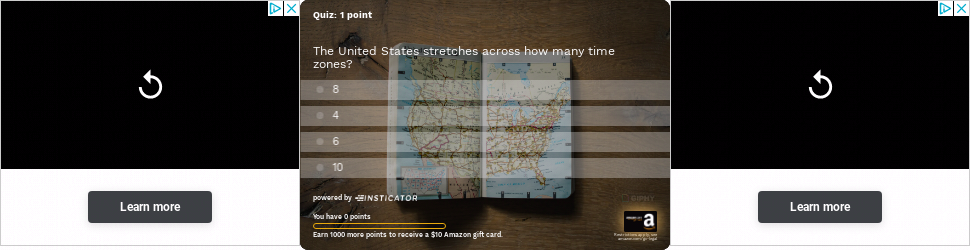fake_button: (80, 185, 217, 231), (749, 187, 894, 228)
